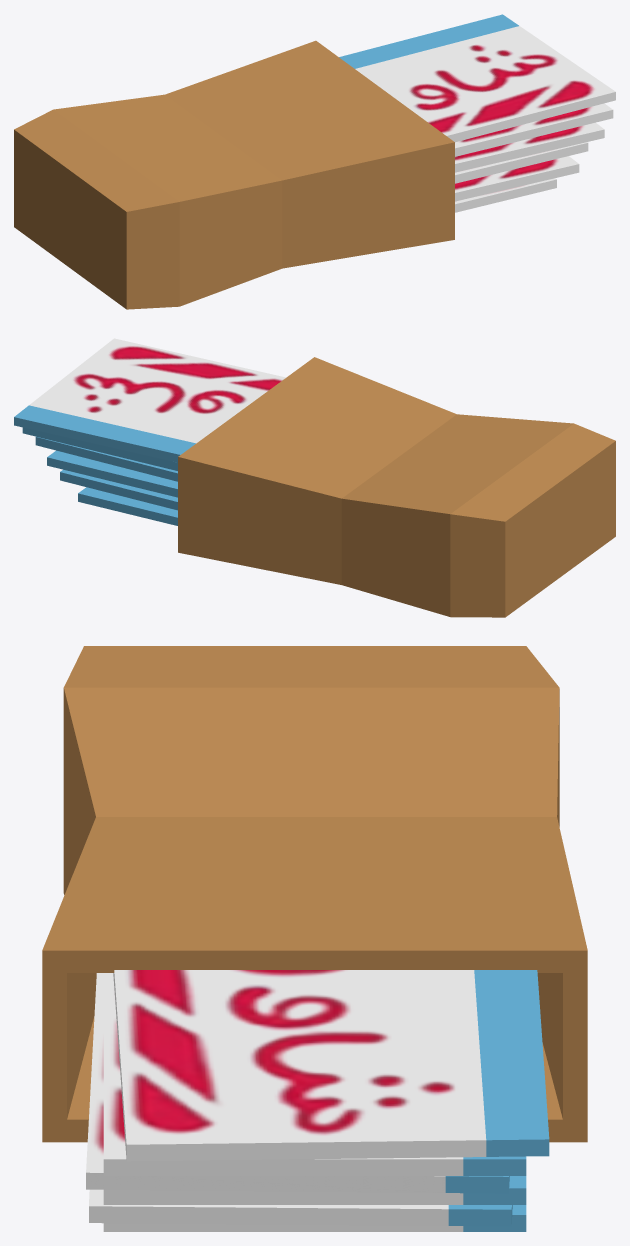
3 views of the same model, one above another, from view 1: azimuth 30°, elevation 25°; view 2: azimuth 150°, elevation 25°; view 3: azimuth 270°, elevation 25° (orthographic). The views are drawn at different scales.
Parts seen in each view (by area): view 1: 立方体, 立方体.001, 立方体.002, 立方体.003, 立方体.005, 立方体.004, 立方体.006; view 2: 立方体, 立方体.001, 立方体.004, 立方体.006, 立方体.005, 立方体.003, 立方体.002; view 3: 立方体, 立方体.001, 立方体.002, 立方体.003, 立方体.005, 立方体.004, 立方体.006.
Part boxes in pixels (x1,y1,x2,y2): 立方体: (14, 40, 454, 309); 立方体.001: (339, 14, 615, 142); 立方体.002: (455, 103, 613, 156); 立方体.003: (455, 122, 604, 172); 立方体.005: (455, 156, 579, 201); 立方体.004: (455, 142, 588, 183); 立方体.006: (455, 178, 556, 212); 立方体: (178, 357, 615, 617); 立方体.001: (14, 338, 285, 462); 立方体.004: (47, 450, 177, 497); 立方体.006: (78, 487, 177, 525); 立方体.005: (60, 469, 177, 510); 立方体.003: (35, 436, 177, 481); 立方体.002: (22, 427, 177, 470); 立方体: (42, 646, 587, 1142); 立方体.001: (113, 970, 549, 1161); 立方体.002: (103, 973, 526, 1175); 立方体.003: (86, 973, 509, 1193); 立方体.005: (89, 1189, 512, 1226); 立方体.004: (103, 1176, 526, 1204); 立方体.006: (103, 1205, 526, 1231).
Size of the model in its own units: 536 by 107 by 258.
